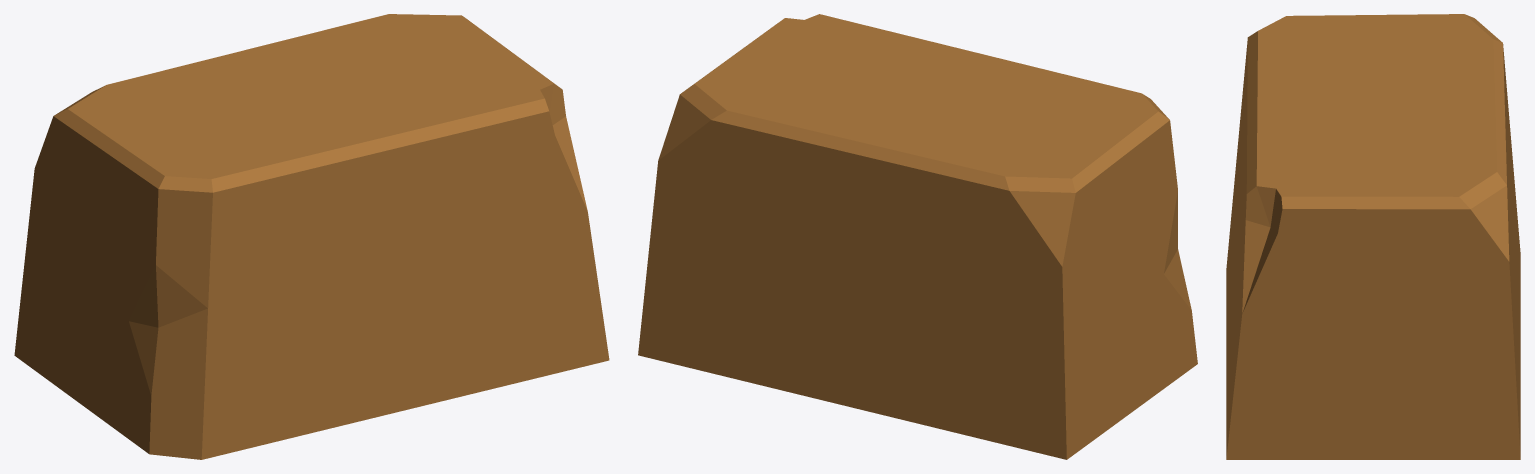
Rendered from BlockSandStoneC.fbx.
3 views of the same model, side by side, from view 1: azimuth 30°, elevation 25°; view 2: azimuth 150°, elevation 25°; view 3: azimuth 270°, elevation 25° (orthographic). The views are drawn at different scales.
Parts seen in each view (by area): view 1: BlockSandStoneC; view 2: BlockSandStoneC; view 3: BlockSandStoneC.
Boxes of the visible parts, bbox=[...] form: BlockSandStoneC: bbox=[14, 14, 609, 459]; BlockSandStoneC: bbox=[638, 14, 1197, 459]; BlockSandStoneC: bbox=[1226, 14, 1520, 459].
Size of the model in its own units: 65.5 by 37.2 by 39.52.
